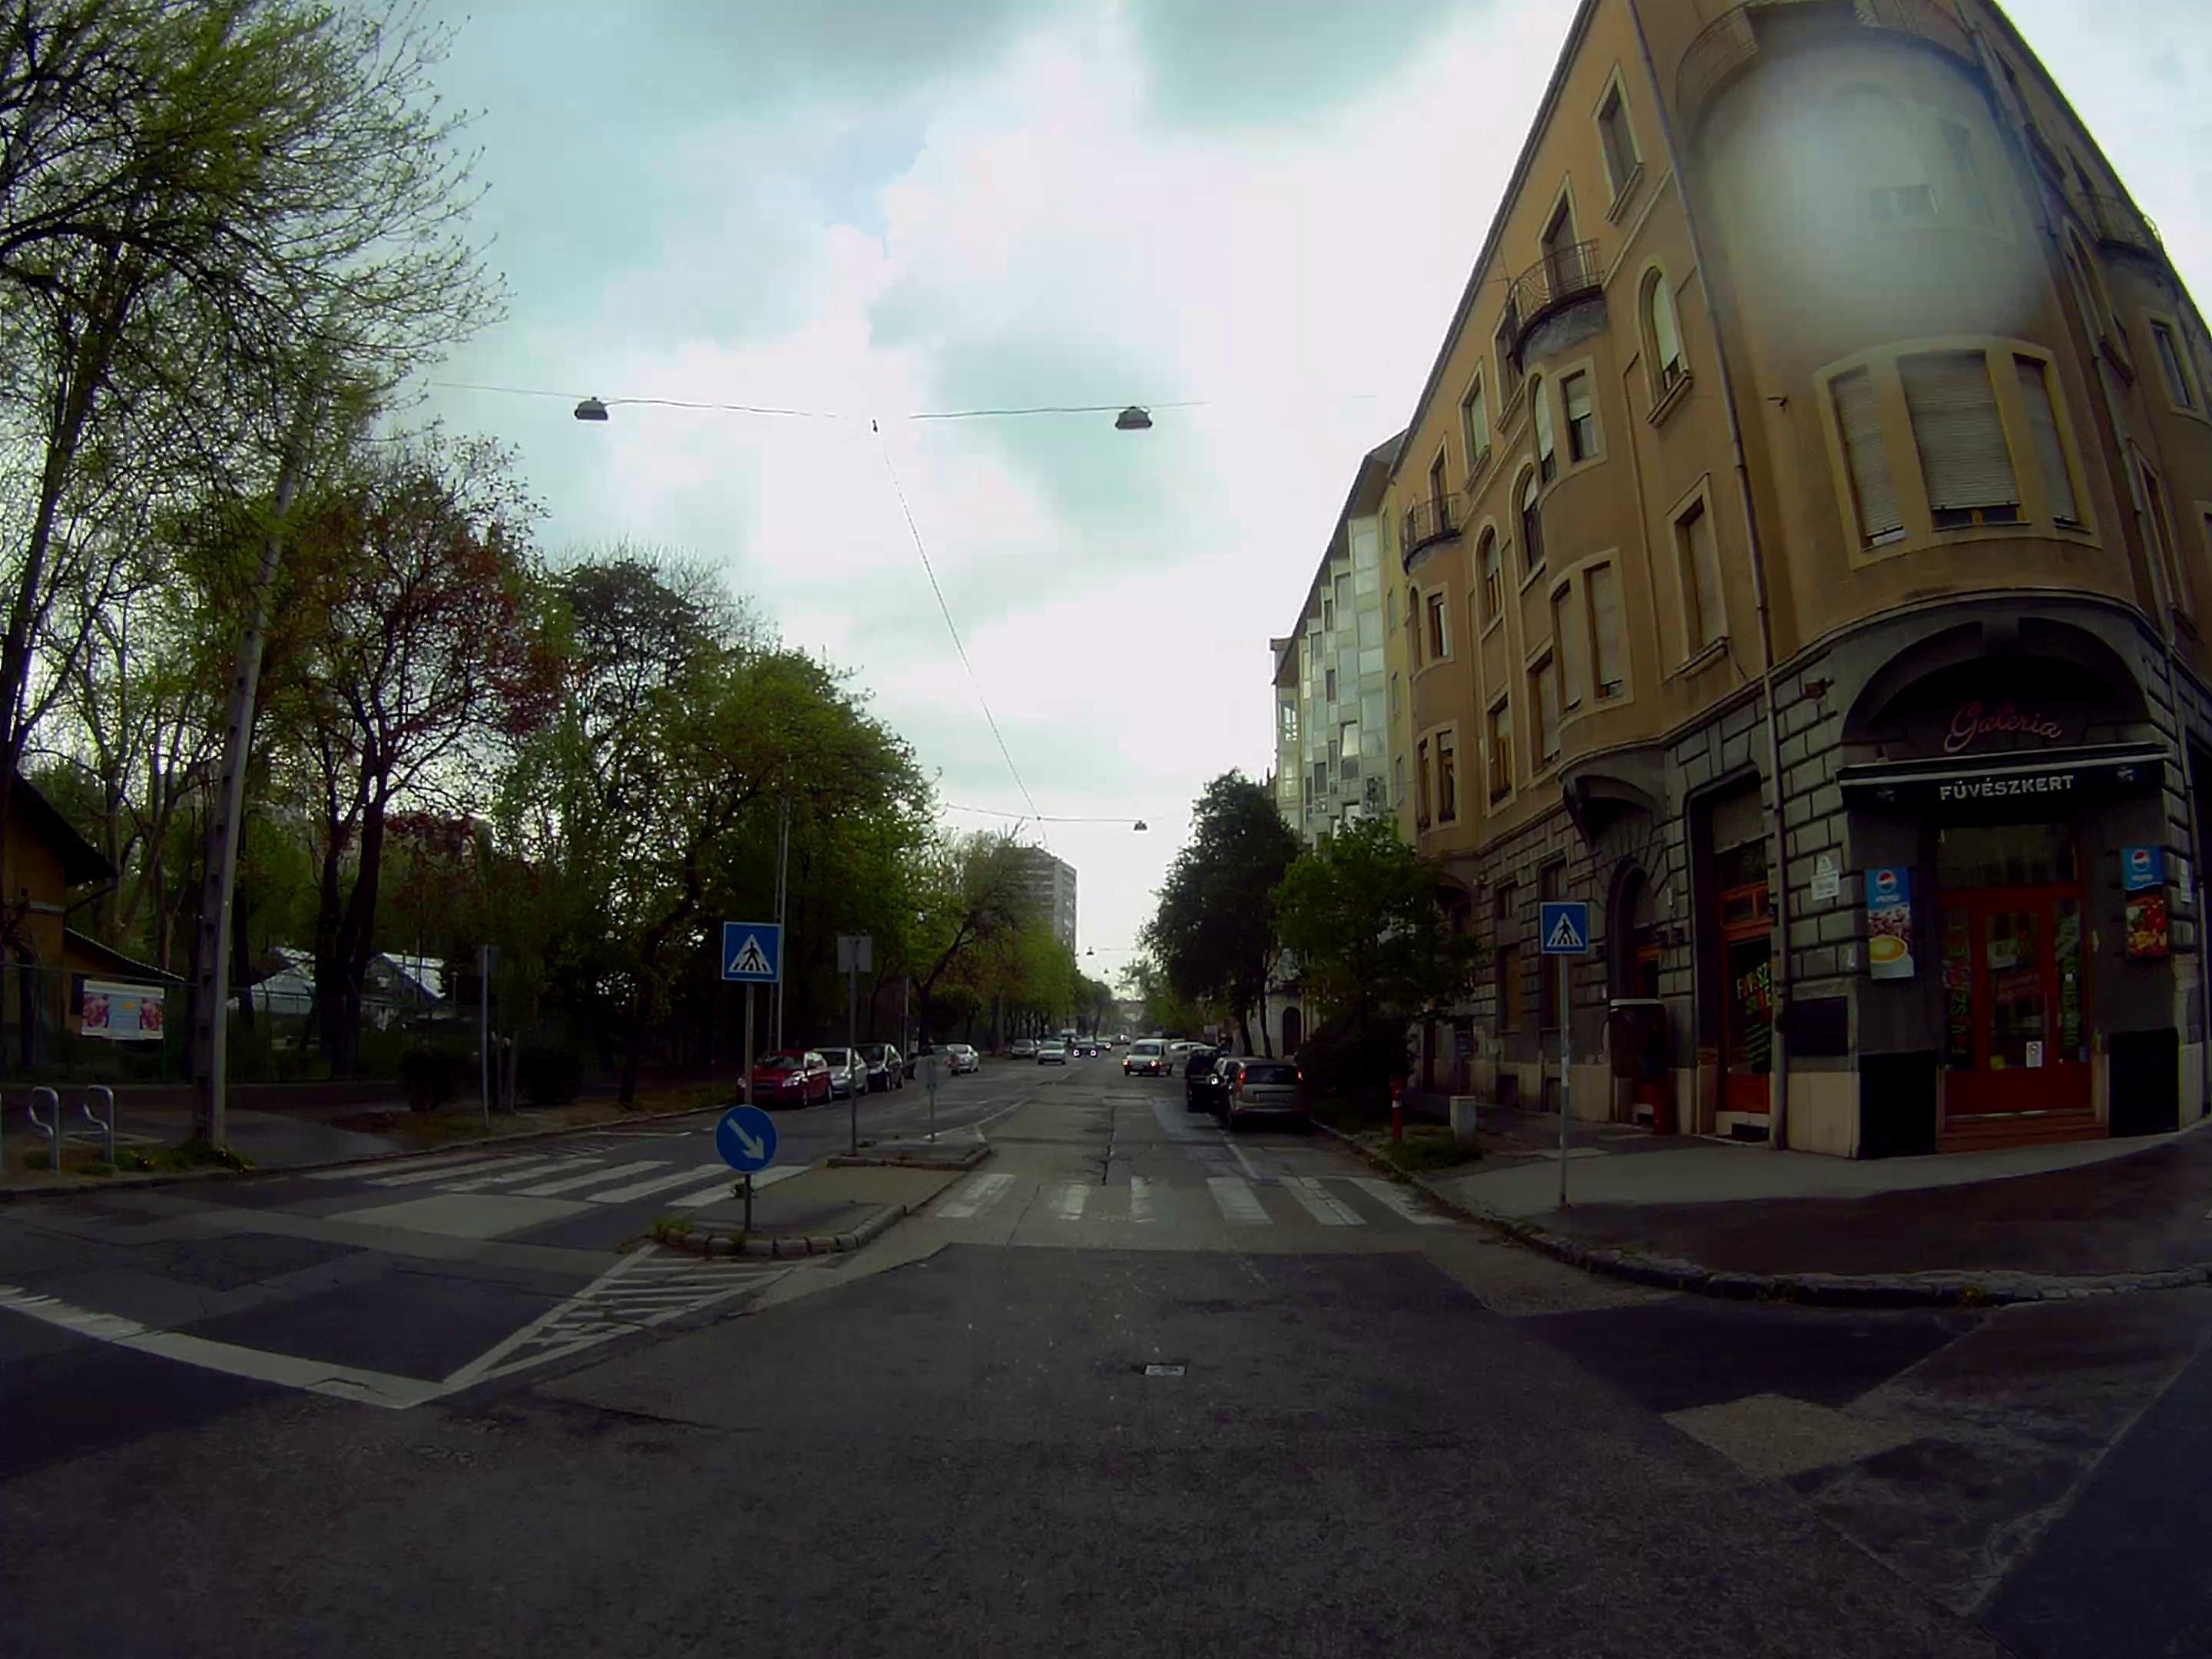vinyl banner: (78, 965, 172, 1040)
